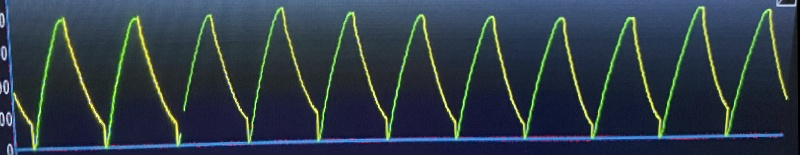leakage: (24, 1, 736, 145)
